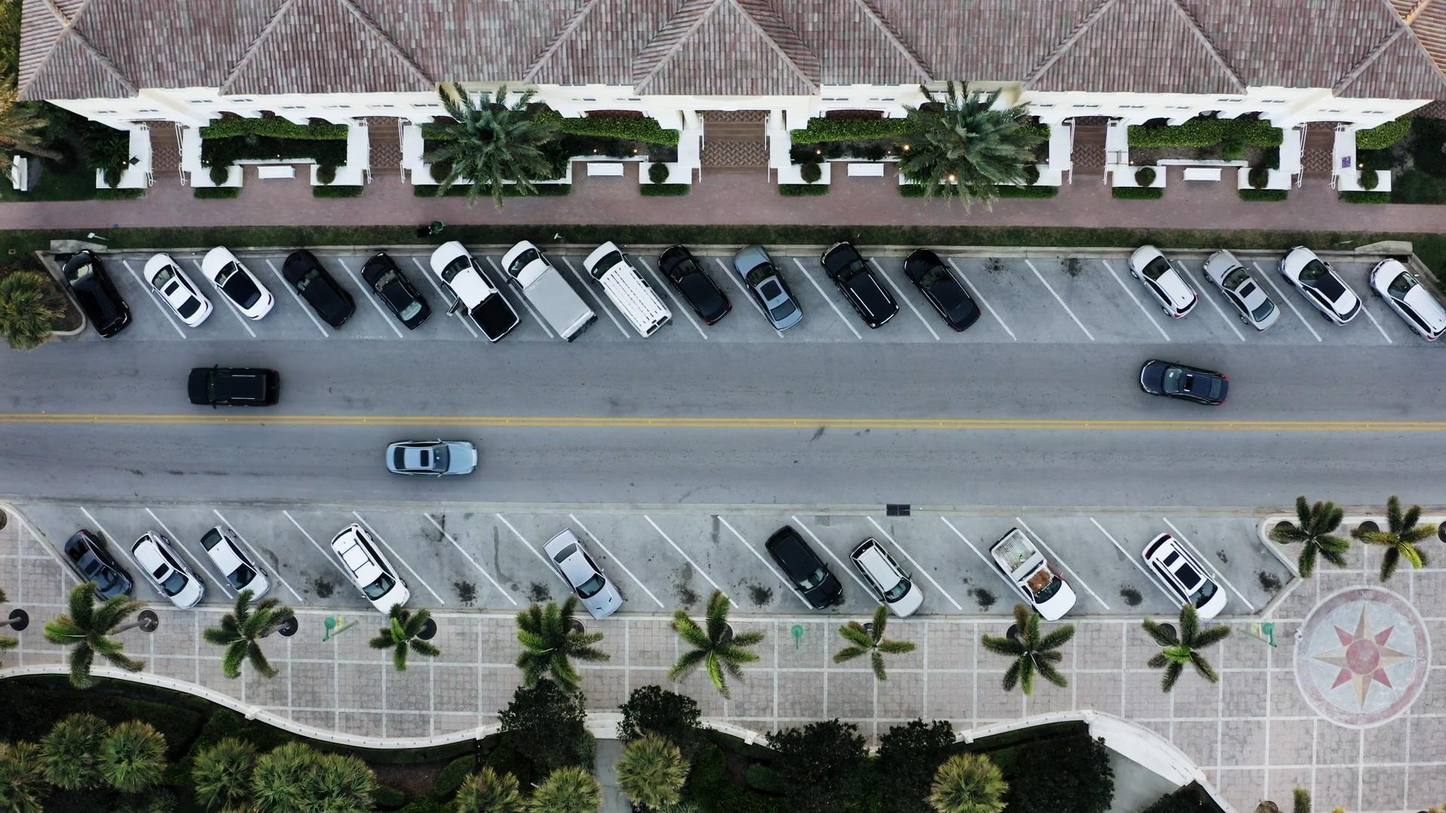car: (1141, 333, 1243, 423), (183, 368, 292, 412), (377, 444, 483, 480)
free: (648, 524, 722, 607), (703, 515, 776, 598), (477, 526, 550, 609), (1066, 531, 1139, 614), (921, 535, 992, 614), (993, 255, 1051, 344), (267, 531, 336, 604), (408, 544, 479, 613), (1071, 261, 1120, 340)
occupied: (432, 241, 527, 344), (586, 242, 670, 337), (1139, 531, 1230, 618), (990, 528, 1071, 620), (1277, 244, 1365, 326), (199, 523, 281, 611), (54, 519, 136, 607), (544, 529, 624, 619), (329, 526, 411, 613), (821, 242, 899, 330), (726, 243, 803, 332), (768, 525, 845, 611), (61, 250, 133, 338), (843, 539, 939, 605), (1202, 250, 1280, 331), (1369, 259, 1446, 340), (281, 249, 356, 329), (903, 249, 976, 331), (361, 250, 434, 332), (129, 532, 206, 609), (144, 252, 215, 329), (1128, 246, 1198, 321), (210, 254, 278, 321)
